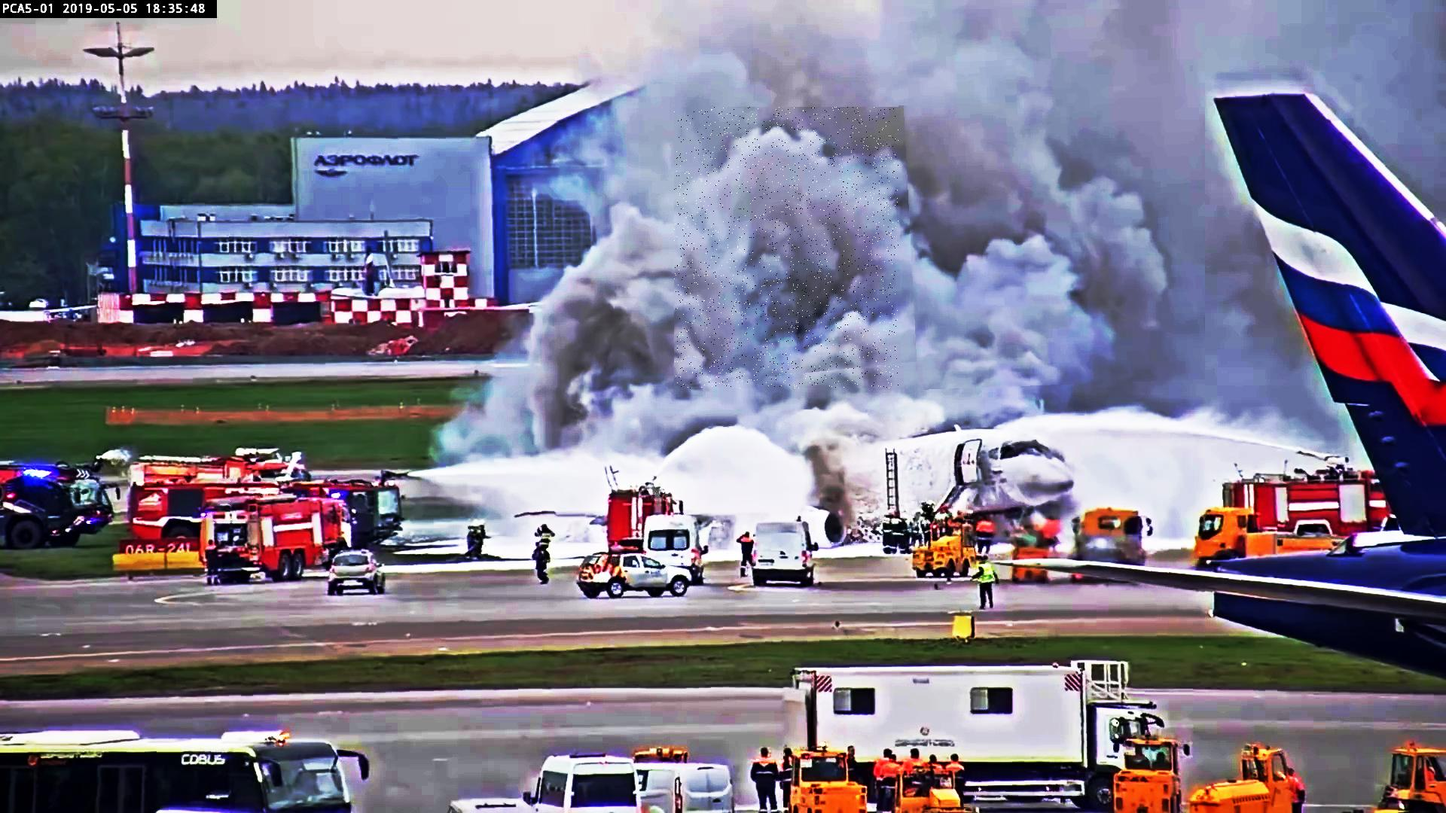smoke: (899, 10, 1205, 392), (675, 107, 1073, 389)
